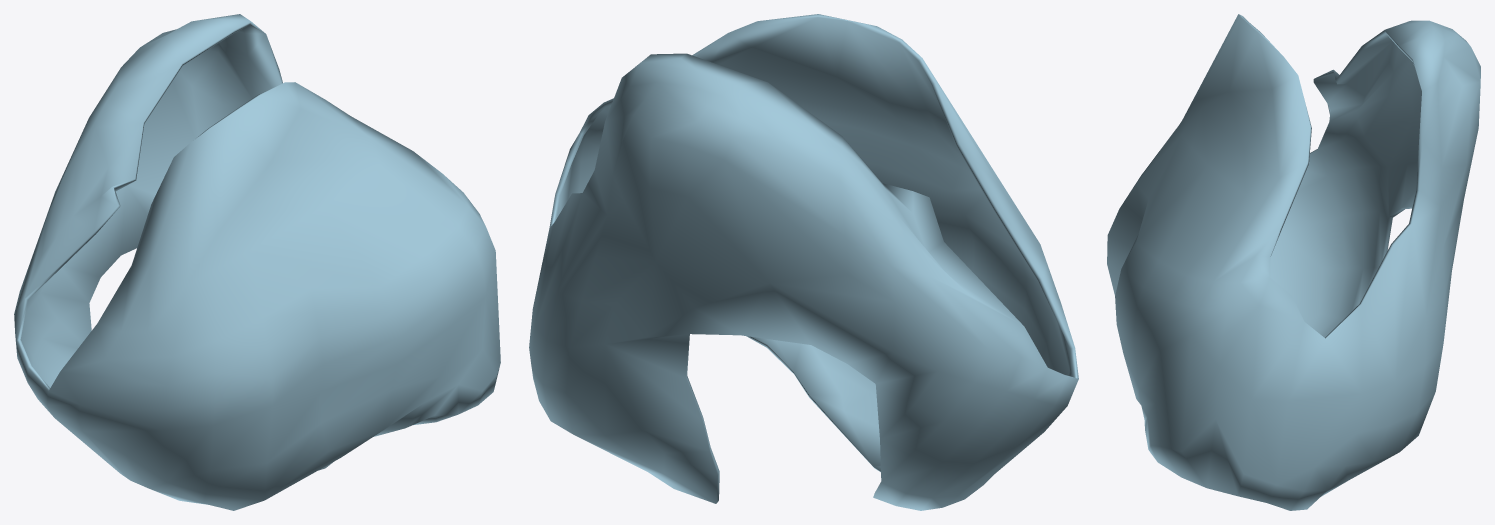
Rendered from articulacoes-articular-capsule-of-elbow-joint-l.glb.
3 renders of one model, left to right at view 1: azimuth 30°, elevation 25°; view 2: azimuth 150°, elevation 25°; view 3: azimuth 270°, elevation 25°, orthographic. The views are drawn at different scales.
Visible parts, largest first — view 1: Articular capsule of elbow joint.l; view 2: Articular capsule of elbow joint.l; view 3: Articular capsule of elbow joint.l.
Part boxes in pixels (<box>): Articular capsule of elbow joint.l: <box>14,14,500,510</box>; Articular capsule of elbow joint.l: <box>529,14,1078,510</box>; Articular capsule of elbow joint.l: <box>1107,14,1480,510</box>.
Bounding box in the file's own units: 0.0611 × 0.0532 × 0.0423.
